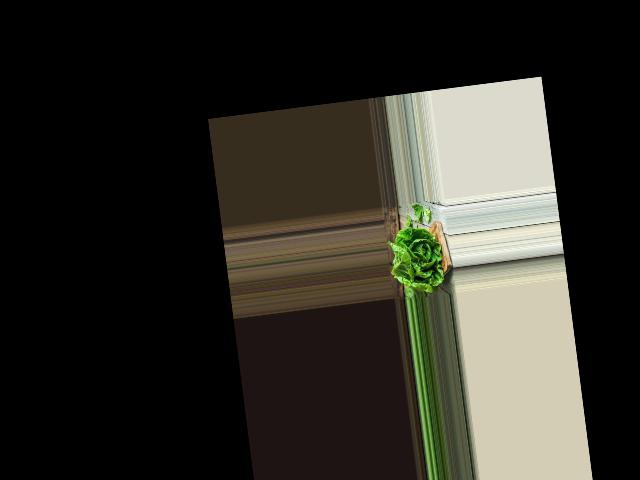lettuce: (388, 226, 449, 298)
